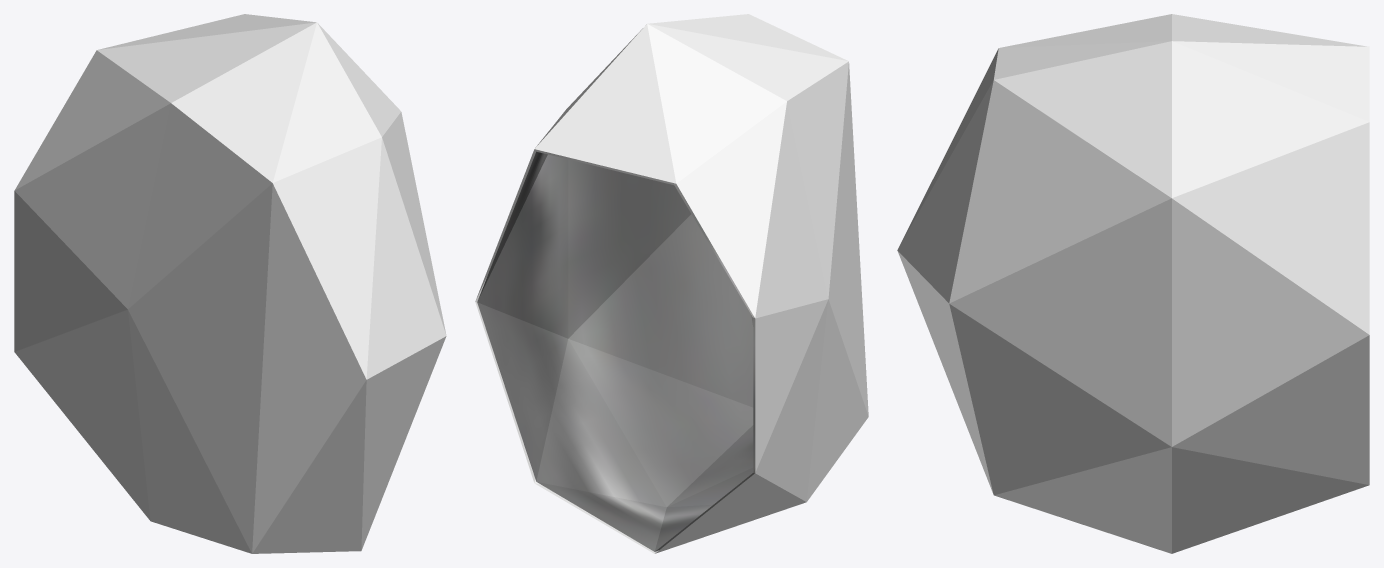
3 renders of one model, left to right at view 1: azimuth 30°, elevation 25°; view 2: azimuth 150°, elevation 25°; view 3: azimuth 270°, elevation 25°, orthographic. The views are drawn at different scales.
Visible parts, largest first — view 1: B_0023_1b_1; view 2: B_0023_1b_1, B_0023_1b_0; view 3: B_0023_1b_1.
Boxes of the visible parts, x1,y1,x2,y2 form: B_0023_1b_1: (14, 14, 446, 553); B_0023_1b_1: (475, 14, 868, 553); B_0023_1b_0: (477, 150, 755, 551); B_0023_1b_1: (897, 14, 1369, 553).
Bounding box in the file's own units: 1.28 × 2.1 × 1.72.
